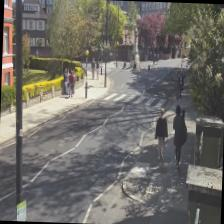person: (170, 104, 186, 166), (154, 108, 168, 160)
